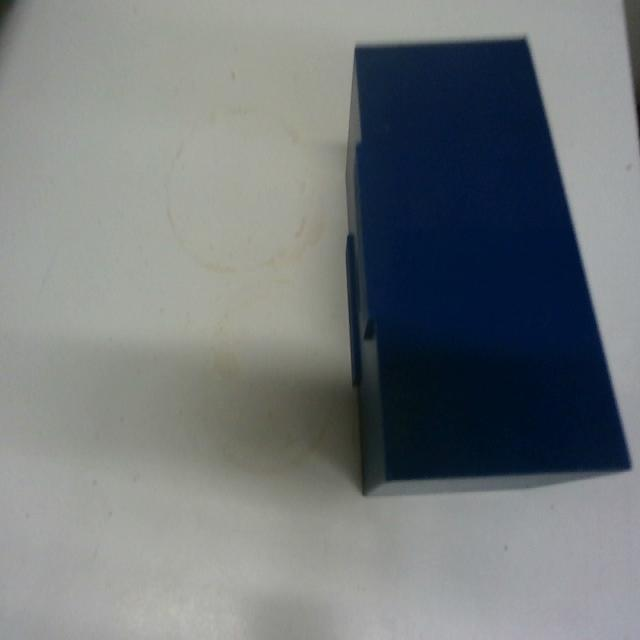Blue Cuboid: (342, 32, 632, 497)
